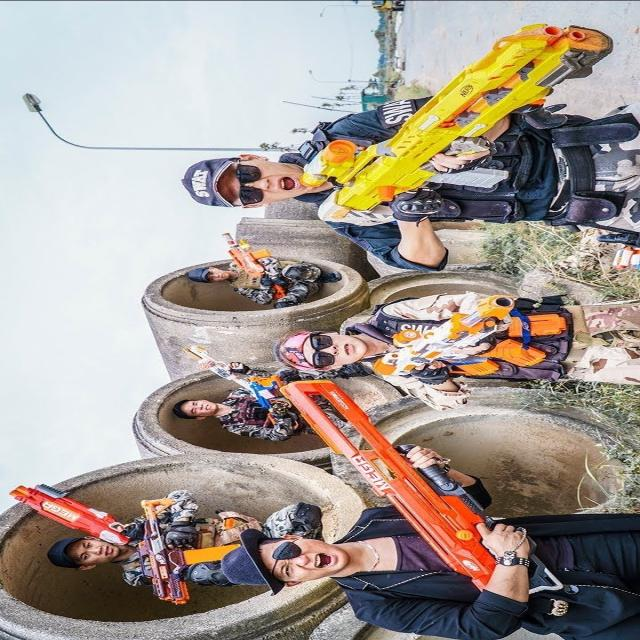Nerf gun: (305, 22, 619, 231), (284, 378, 570, 599), (371, 296, 568, 384), (130, 486, 245, 610), (6, 481, 145, 547), (215, 234, 297, 309), (181, 345, 249, 393), (242, 373, 295, 431)
